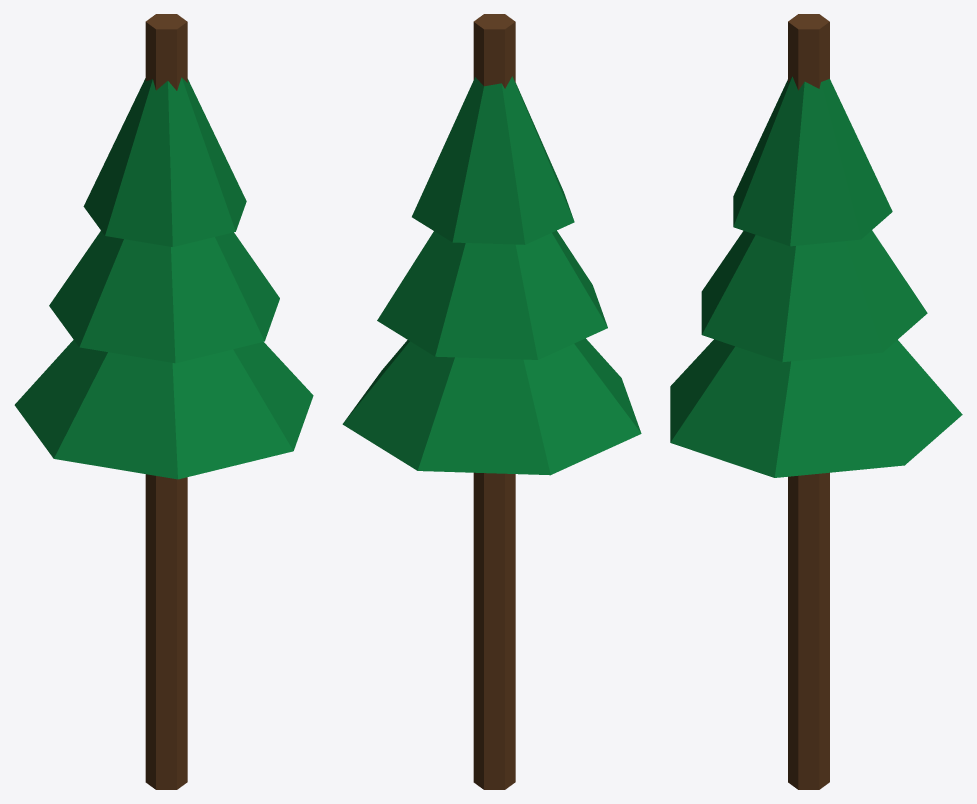
Rendered from Prop_OR_LedgerTree_10.glb.
3 views of the same model, side by side, from view 1: azimuth 30°, elevation 25°; view 2: azimuth 150°, elevation 25°; view 3: azimuth 270°, elevation 25° (orthographic).
Visible parts, largest first — view 1: Prop_OR_LedgerTree_10; view 2: Prop_OR_LedgerTree_10; view 3: Prop_OR_LedgerTree_10.
Boxes of the visible parts, x1,y1,x2,y2 form: Prop_OR_LedgerTree_10: [14, 14, 313, 789]; Prop_OR_LedgerTree_10: [342, 14, 641, 789]; Prop_OR_LedgerTree_10: [670, 14, 962, 789].
Bounding box in the file's own units: 2.14 × 6 × 2.09.
